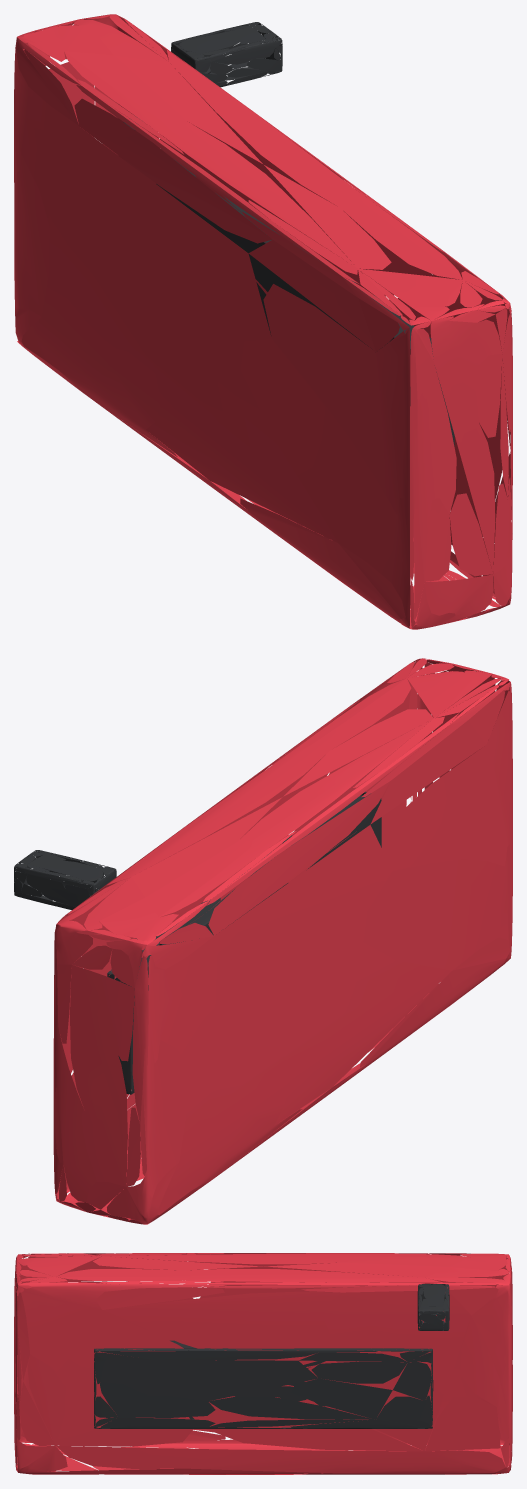
File: hypercar_door_butterfly_right.glb
3 renders of one model, top to bottom at view 1: azimuth 30°, elevation 25°; view 2: azimuth 150°, elevation 25°; view 3: azimuth 270°, elevation 25°, orthographic. The views are drawn at different scales.
Visible parts, largest first — view 1: Hypercar_Door_Butterfly_Right; view 2: Hypercar_Door_Butterfly_Right; view 3: Hypercar_Door_Butterfly_Right.
Boxes of the visible parts, <box> form: Hypercar_Door_Butterfly_Right: <box>14,14,512,629</box>; Hypercar_Door_Butterfly_Right: <box>14,658,512,1224</box>; Hypercar_Door_Butterfly_Right: <box>14,1253,512,1474</box>.
Size of the model in its own units: 0.3597 by 0.5396 by 1.25.
